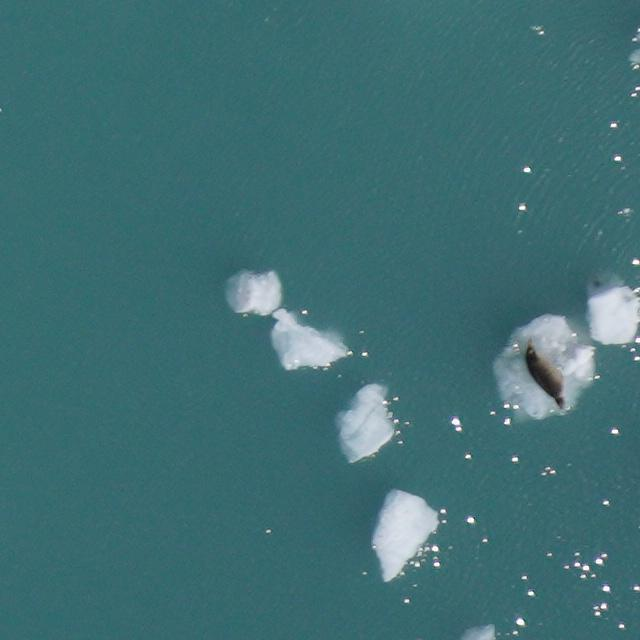seal: (509, 341, 582, 411)
